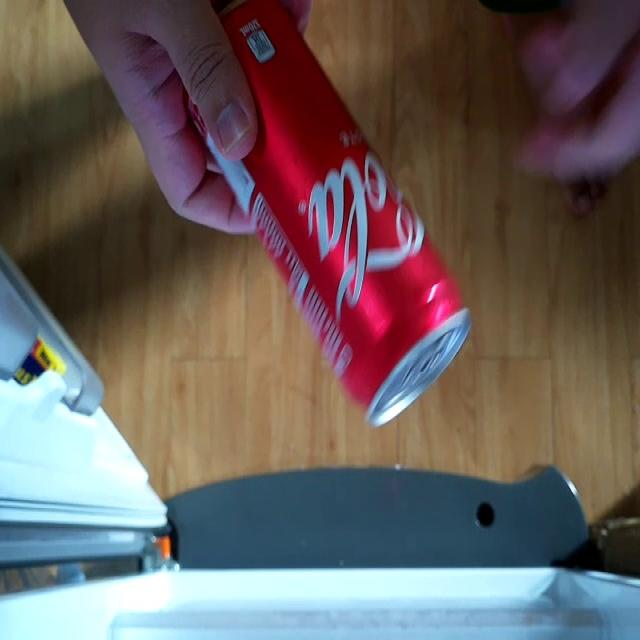coke: (182, 5, 478, 439)
